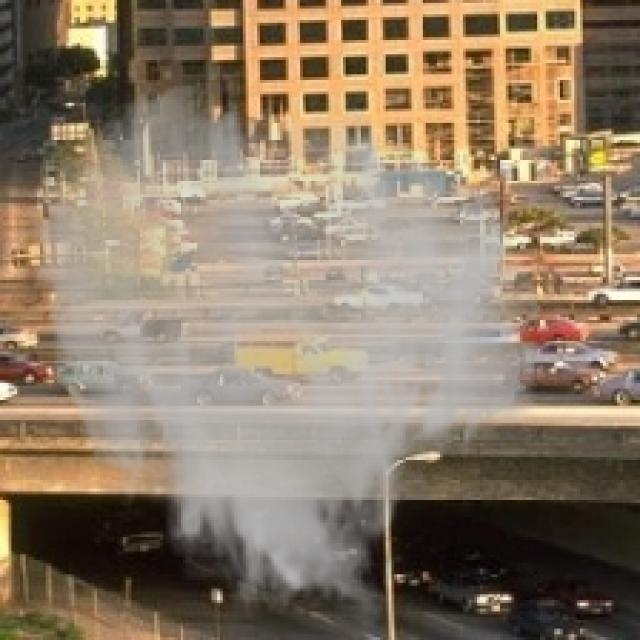smoke: (26, 80, 546, 631)
